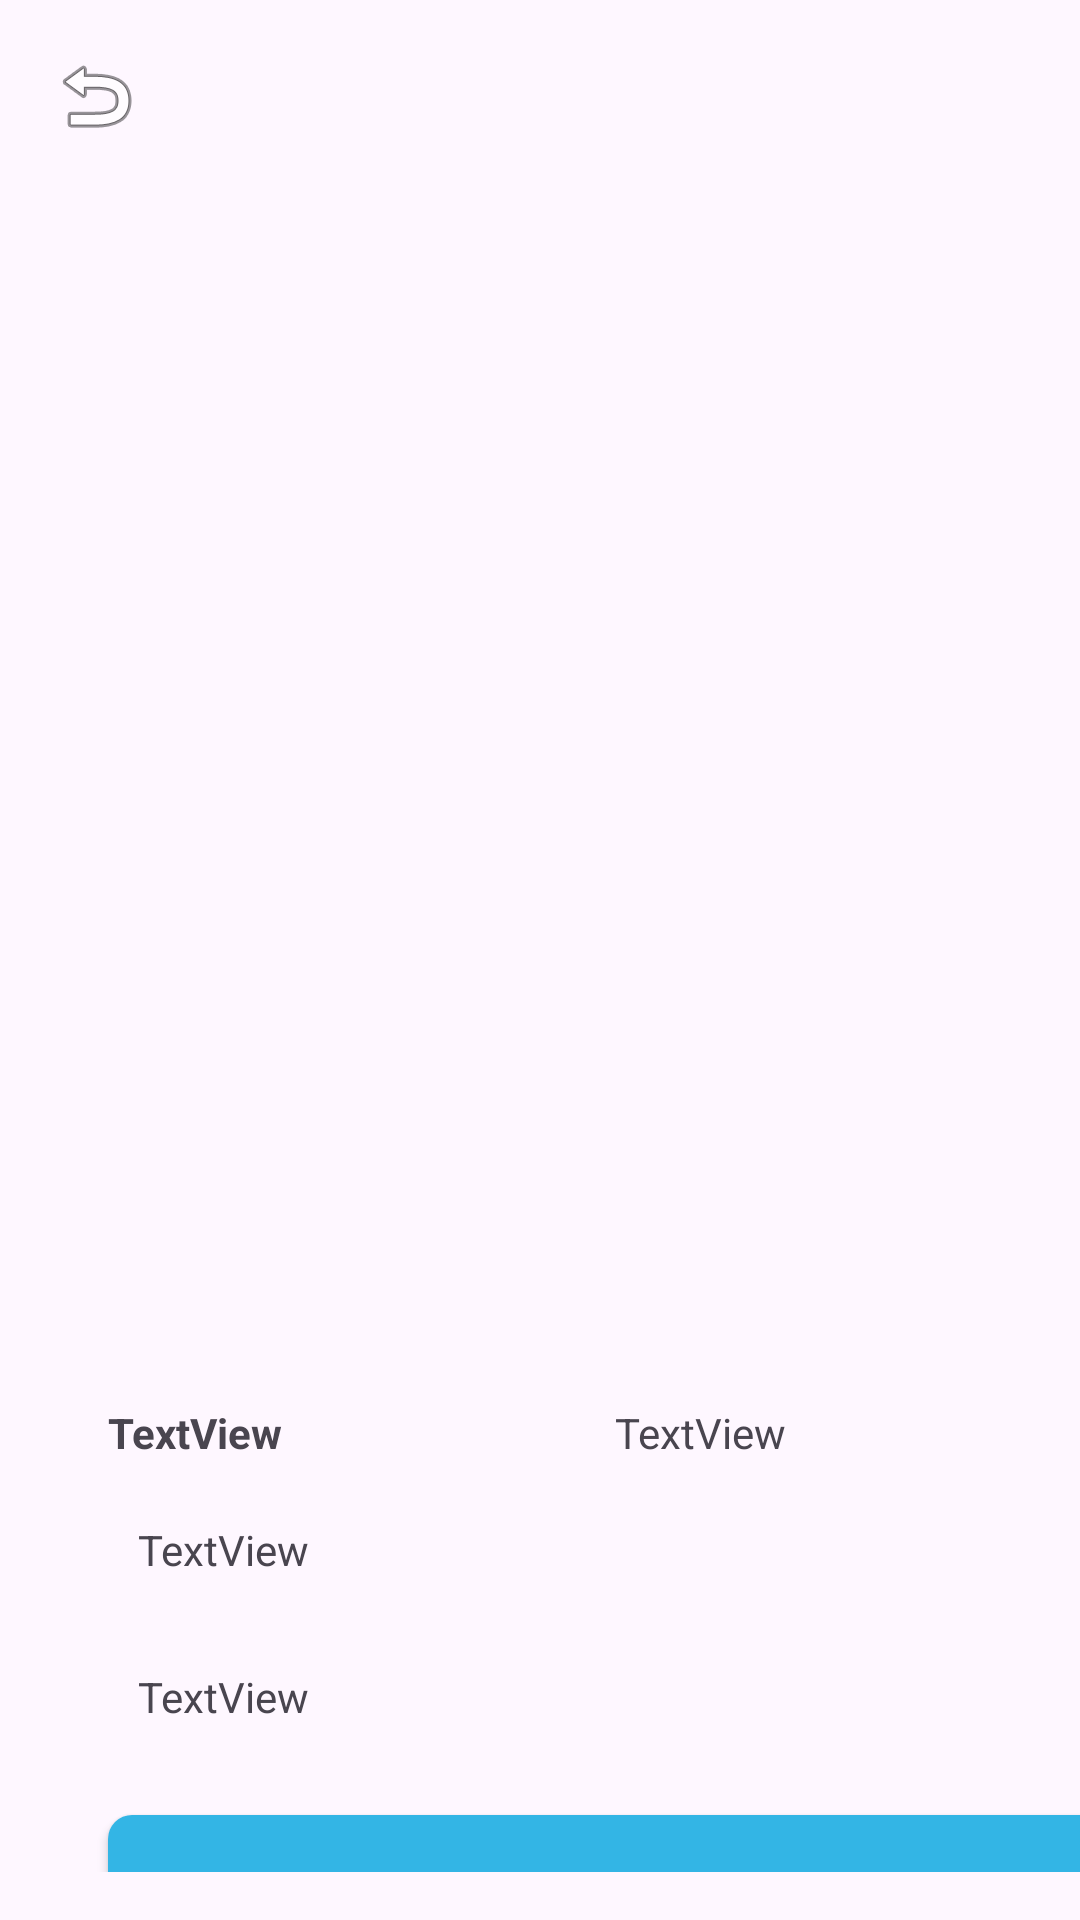

Screen size 1080*1920. Icon name, then its center in pixels as point (x, y):
revert: point (97, 96)
